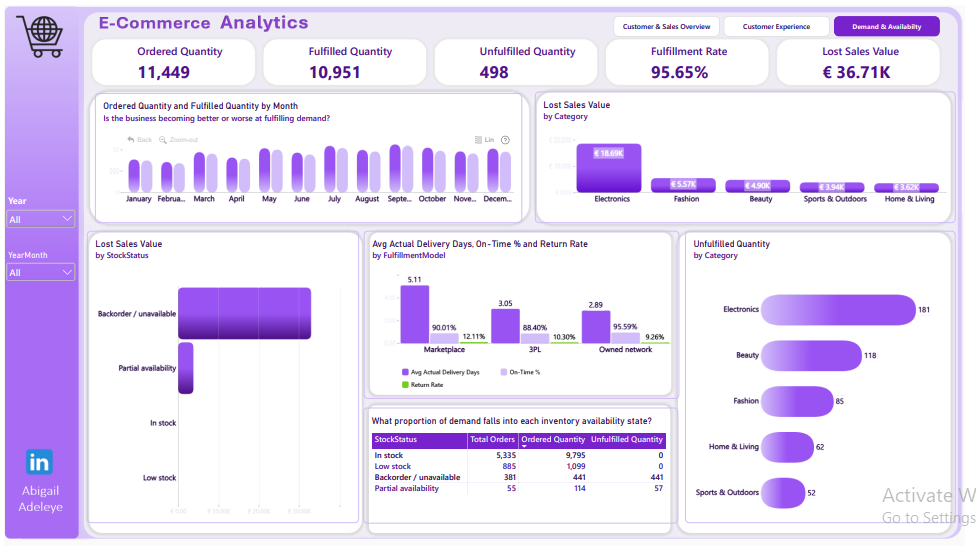

This screenshot's page, from the dashboard's own definition file:
{"tool":"powerbi","page":{"name":"Demand & Availabilty","canvas":[1920,1080],"ordinal":2},"visuals":[{"type":"ZoomChartsFacetChartPaidE77E4ED357DC402ABA005987437CF500","fields":{"Category":["DimDate.Month"],"Values2":["_measures.fulfilled Quantity"],"Values1":["_measures.Ordered Quantity"]},"box":[181.6,175.5,853.1,259.2],"z":0},{"type":"ZoomChartsFacetChartPaidE77E4ED357DC402ABA005987437CF500","fields":{"Category":["DimProduct.Category"],"Values1":["_measures.Lost Sales Value"]},"box":[1061.2,173.5,840,261.2],"z":1000},{"type":"ZoomChartsDrillDownComboBarProE77E4ED357DC402ABA005987437CF8","fields":{"Values1":["_measures.Lost Sales Value"],"Category":["FactOrderLine.StockStatus"]},"box":[166.3,451.4,542.5,582.7],"z":2000},{"type":"ZoomChartsDrillDownComboBarProE77E4ED357DC402ABA005987437CF8","fields":{"Values1":["_measures.Unfulfilled Quantity"],"Category":["DimProduct.Category"]},"box":[1360.8,451.4,540.3,582.7],"z":3000},{"type":"tableEx","title":"What proportion of demand falls into each inventory availability state?","fields":{"Values":["FactOrderLine.StockStatus","_measures.Orders","_measures.Ordered Quantity","_measures.Unfulfilled Quantity"]},"box":[718.4,804.1,628.6,230.6],"z":4000},{"type":"ZoomChartsFacetChartPaidE77E4ED357DC402ABA005987437CF500","fields":{"Category":["DimFulfillment.FulfillmentModel"],"Values3":["_measures.Return Rate"],"Values2":["_measures.On-Time %"],"Values1":["_measures.Avg Actual Delivery Days"]},"box":[719.3,451.4,629.6,334.9],"z":5000},{"type":"cardVisual","fields":{"Data":["_measures.Ordered Quantity","_measures.fulfilled Quantity","_measures.Unfulfilled Quantity","_measures.Fulfillment Rate","_measures.Lost Sales Value"]},"box":[172.3,64.5,1703.8,100],"z":6000},{"type":"slicer","fields":{"Values":["DimDate.Year"]},"box":[0,377.4,146.5,74.4],"z":7000},{"type":"slicer","fields":{"Values":["DimDate.YearMonth"]},"box":[0,489,146.5,69.8],"z":8000},{"type":"pageNavigator","box":[1218.2,21.6,652.3,41],"z":8001}]}

Visuals, with their boxes in screenshot pixels (x1, y1, x2, y2), scaled from the page's 1920x1080 canvas onto the 976x554 screenshot:
ZoomChartsFacetChartPaidE77E4ED357DC402ABA005987437CF500 - DimDate.Month x _measures.fulfilled Quantity: rect(92, 90, 526, 223)
ZoomChartsFacetChartPaidE77E4ED357DC402ABA005987437CF500 - DimProduct.Category x _measures.Lost Sales Value: rect(539, 89, 966, 223)
ZoomChartsDrillDownComboBarProE77E4ED357DC402ABA005987437CF8 - _measures.Lost Sales Value x FactOrderLine.StockStatus: rect(85, 232, 360, 530)
ZoomChartsDrillDownComboBarProE77E4ED357DC402ABA005987437CF8 - _measures.Unfulfilled Quantity x DimProduct.Category: rect(692, 232, 966, 530)
"What proportion of demand falls into each inventory availability state?" tableEx: rect(365, 412, 685, 531)
ZoomChartsFacetChartPaidE77E4ED357DC402ABA005987437CF500 - DimFulfillment.FulfillmentModel x _measures.Return Rate: rect(366, 232, 686, 403)
cardVisual - _measures.Ordered Quantity x _measures.fulfilled Quantity: rect(88, 33, 954, 84)
slicer - DimDate.Year: rect(0, 194, 74, 232)
slicer - DimDate.YearMonth: rect(0, 251, 74, 287)
pageNavigator: rect(619, 11, 951, 32)
